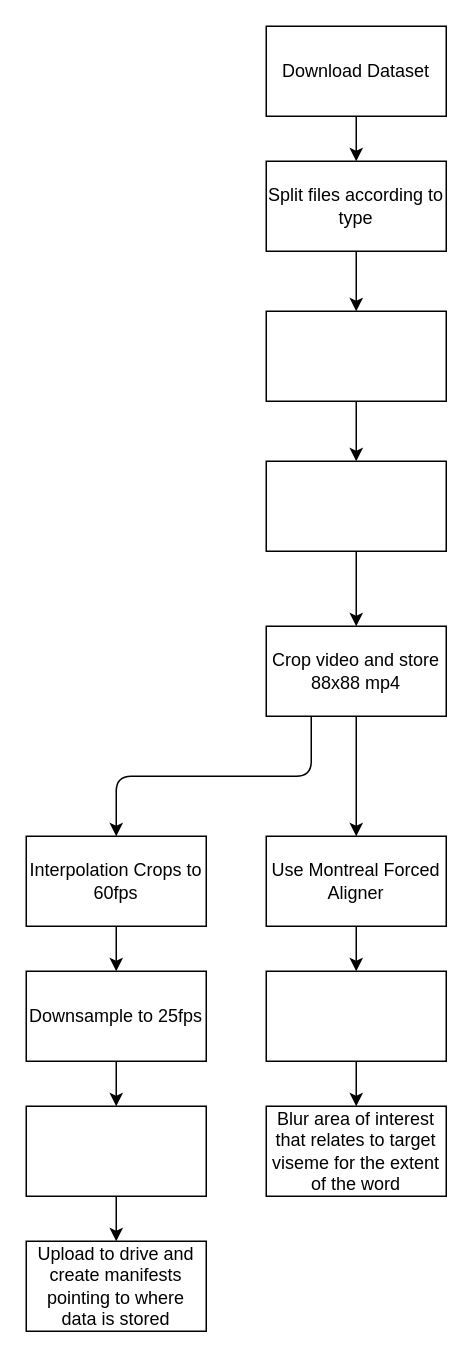
Some shapes in this 473 by 1358 pixel diagram are drawn without their labels. Each missing label, with the centre of its shape:
"Align audio according to down sampling phase" belongs at point 115,1150.
"Convert Audio + Video (25fps and 16kHz)" belongs at point 355,355.
"Extract time stamps of words containing the target viseme" belongs at point 355,1015.
"Use detect_landmarks.py to extract ROI" belongs at point 355,505.
